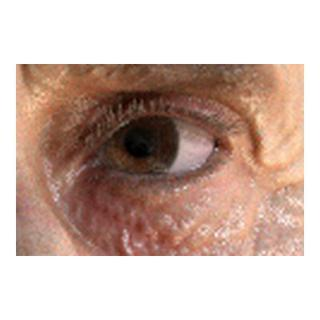pupil: (125, 128, 153, 156)
